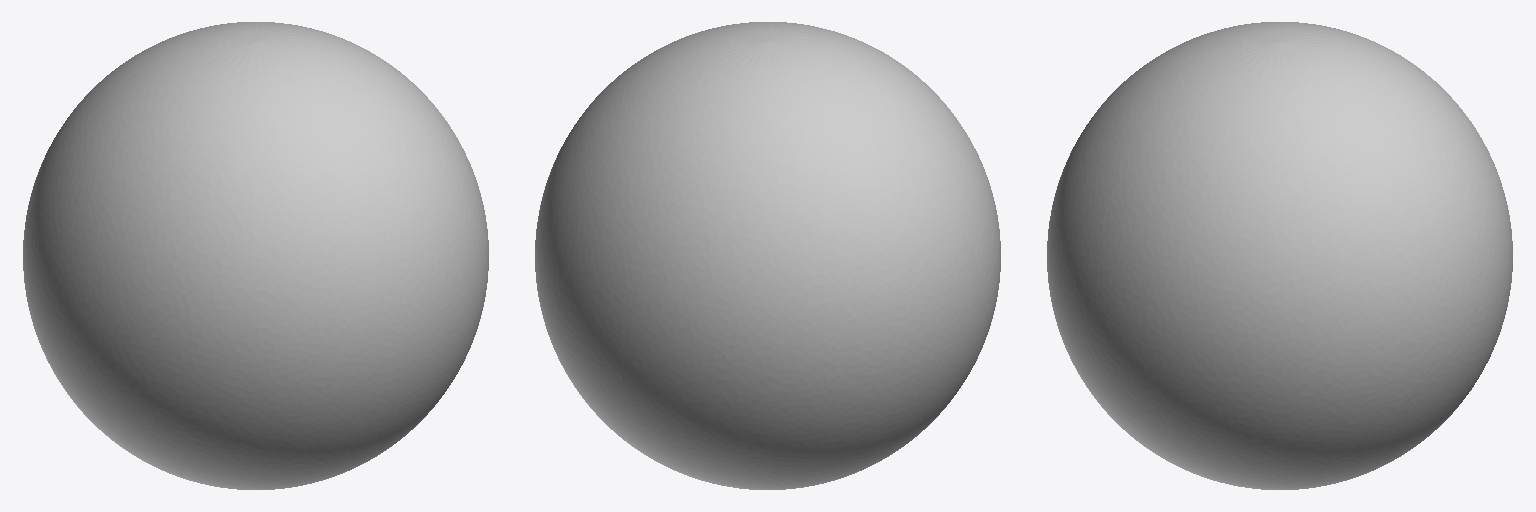
File: kugel.obj
The picture shows the model from 3 angles: view 1: azimuth 30°, elevation 25°; view 2: azimuth 150°, elevation 25°; view 3: azimuth 270°, elevation 25°; orthographic projection.
Visible parts, largest first — view 1: Sphere; view 2: Sphere; view 3: Sphere.
Part boxes in pixels (x1,y1,x2,y2): Sphere: (23,22,488,489); Sphere: (535,22,1000,489); Sphere: (1047,22,1512,489).
Size of the model in its own units: 123 by 125 by 123.